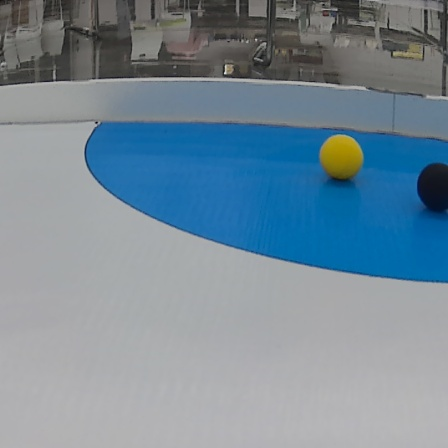black: (417, 163, 448, 210)
blue_base: (81, 121, 448, 284)
yellow: (320, 133, 366, 180)
